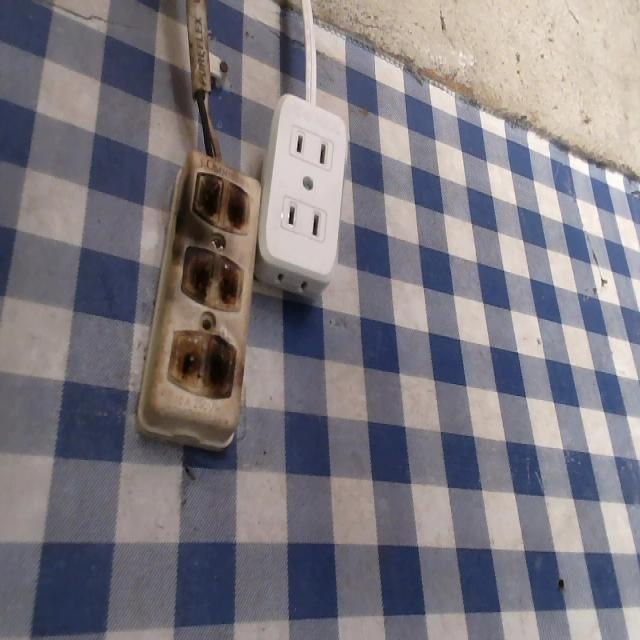-: (166, 329, 237, 414), (183, 246, 247, 322), (188, 163, 250, 237)
